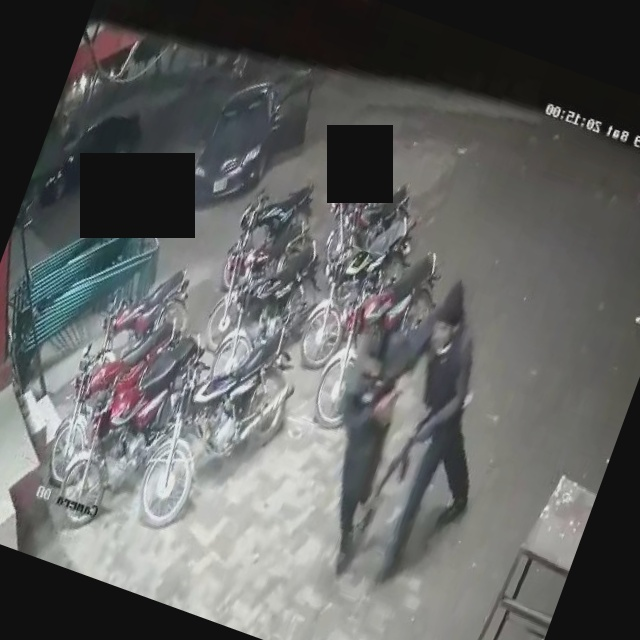gun: (370, 384, 444, 512)
